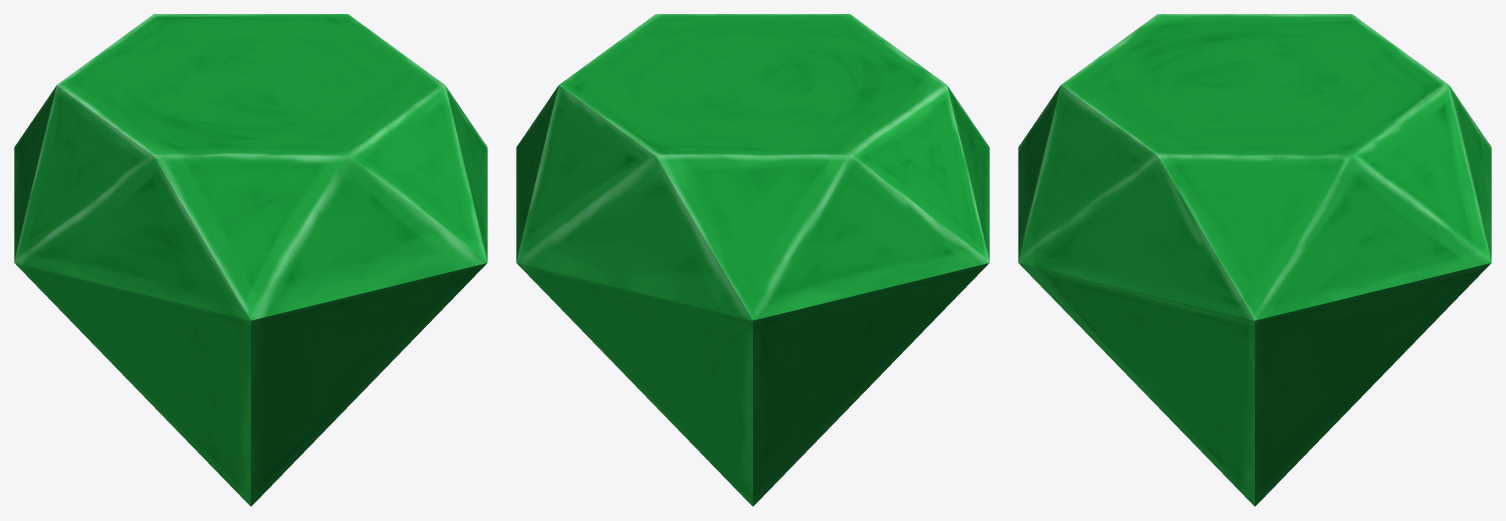
The model's file is BD_GreenGem.fbx.
3 renders of one model, left to right at view 1: azimuth 30°, elevation 25°; view 2: azimuth 150°, elevation 25°; view 3: azimuth 270°, elevation 25°, orthographic.
Parts seen in each view (by area): view 1: BD_GreenGem; view 2: BD_GreenGem; view 3: BD_GreenGem.
Part boxes in pixels (bbox=[...]): BD_GreenGem: bbox=[14, 14, 487, 506]; BD_GreenGem: bbox=[516, 14, 989, 506]; BD_GreenGem: bbox=[1018, 14, 1491, 506].
Size of the model in its own units: 1.44 by 1.22 by 1.24.
